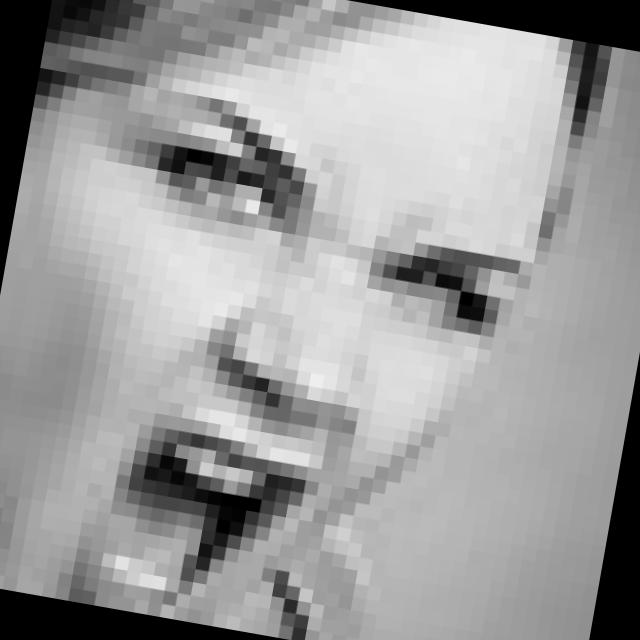angry: (65, 71, 554, 640)
